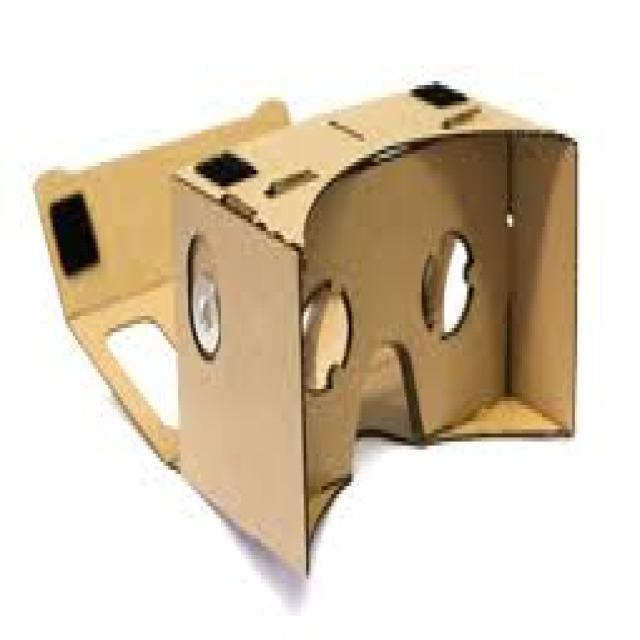Cardboard: (32, 73, 581, 584)
